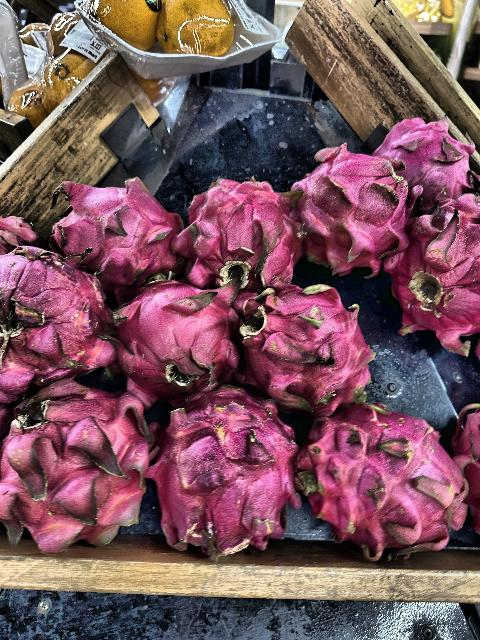buah-naga-matang: (296, 404, 478, 560), (1, 384, 149, 560), (152, 381, 302, 551), (0, 244, 120, 398), (292, 136, 410, 276), (243, 288, 377, 408), (172, 170, 302, 282), (44, 171, 178, 279), (111, 280, 240, 390), (404, 202, 480, 334), (382, 110, 479, 204)
